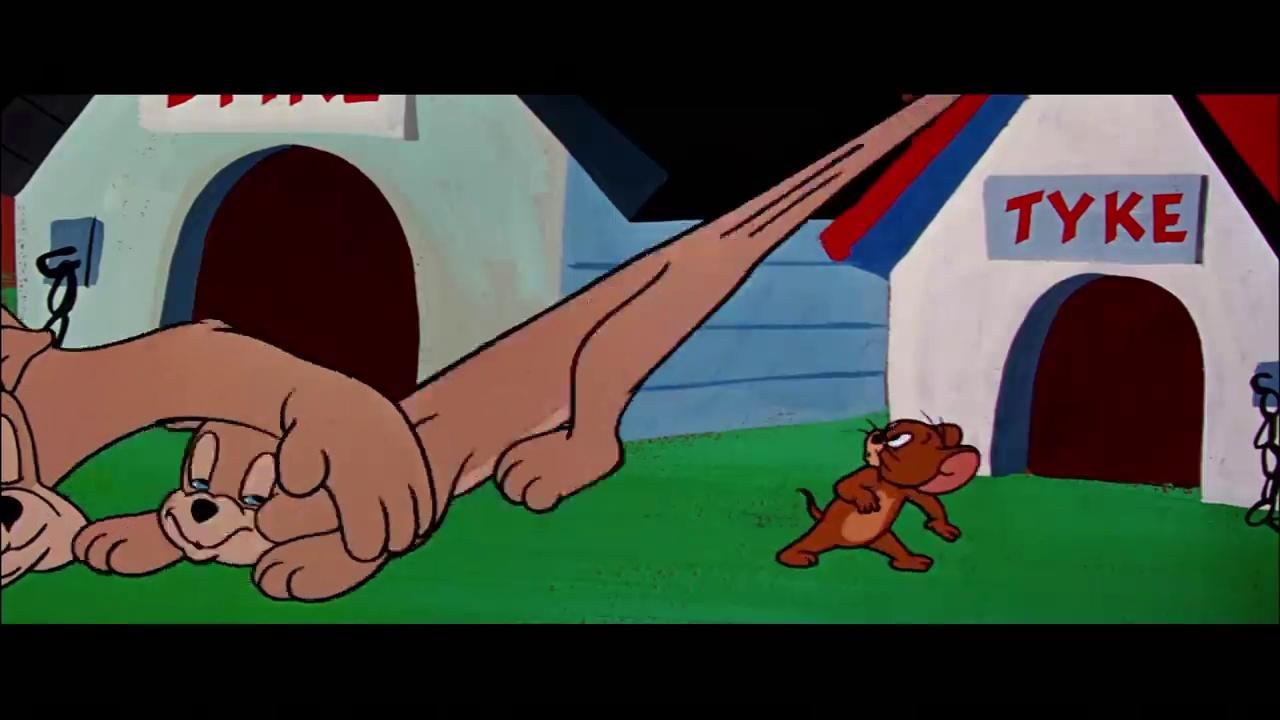Jerry: (774, 408, 984, 573)
